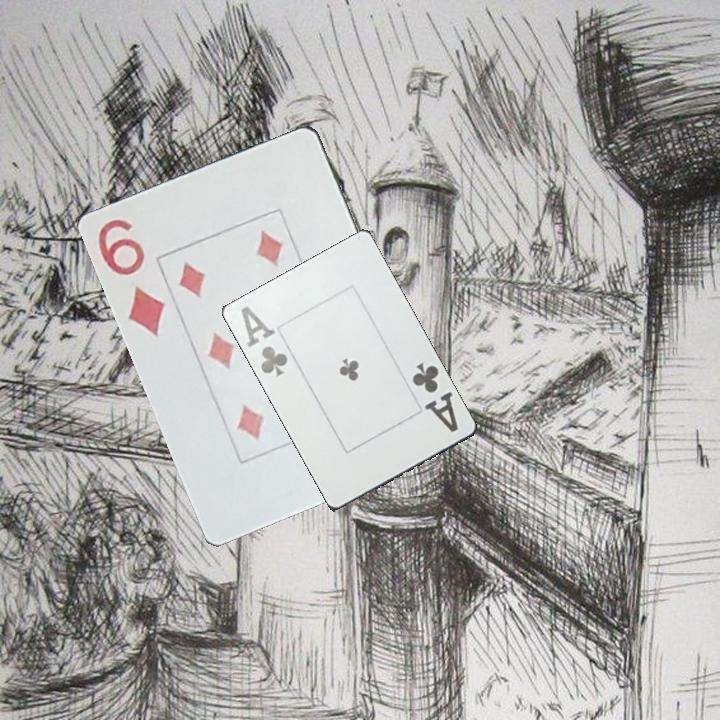6d: (93, 215, 169, 340)
Ac: (238, 302, 291, 380), (409, 359, 462, 435)
